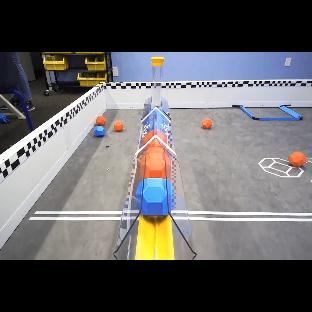V5_BLUE: (136, 178, 174, 216), (142, 108, 170, 135), (94, 126, 105, 137)
V5_RED: (140, 139, 172, 179), (142, 130, 169, 144), (288, 152, 307, 167), (201, 118, 212, 129), (113, 121, 124, 132), (96, 116, 106, 126)
blueingoal: (136, 178, 174, 216), (142, 108, 171, 135)
redingoal: (141, 130, 171, 179), (142, 130, 155, 144)
